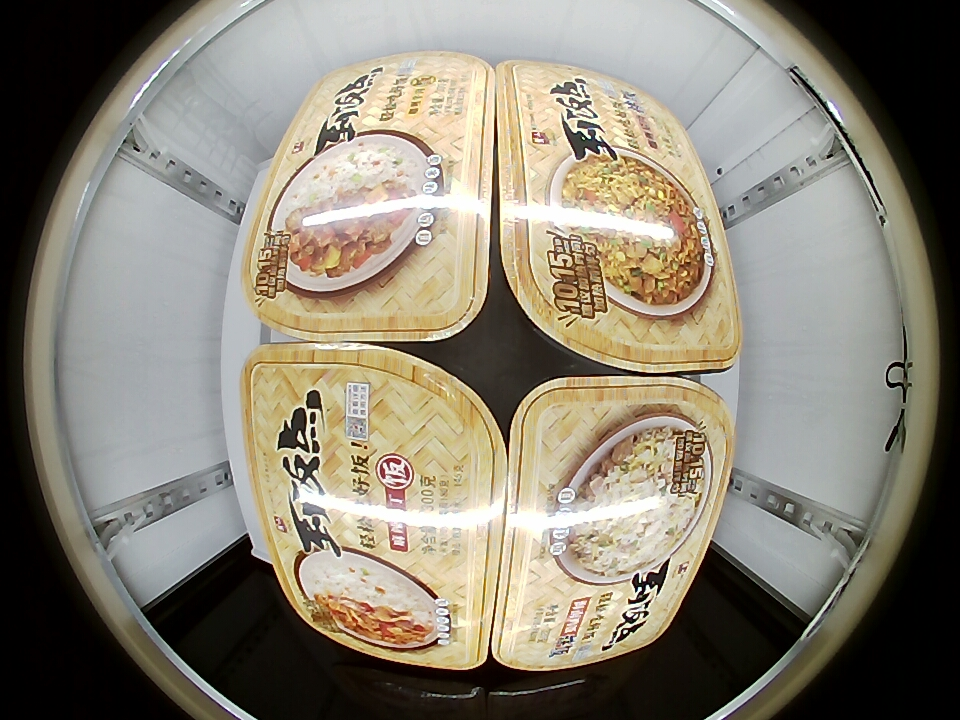daofandian1: (494, 374, 733, 674)
daofandian2: (243, 50, 493, 345)
daofandian3: (490, 58, 738, 376)
daofandian4: (241, 339, 504, 676)
